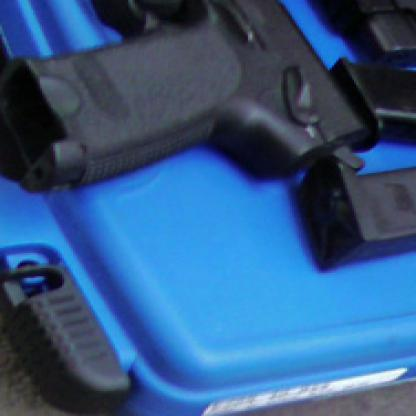gun: (8, 0, 377, 217), (0, 0, 414, 80)
